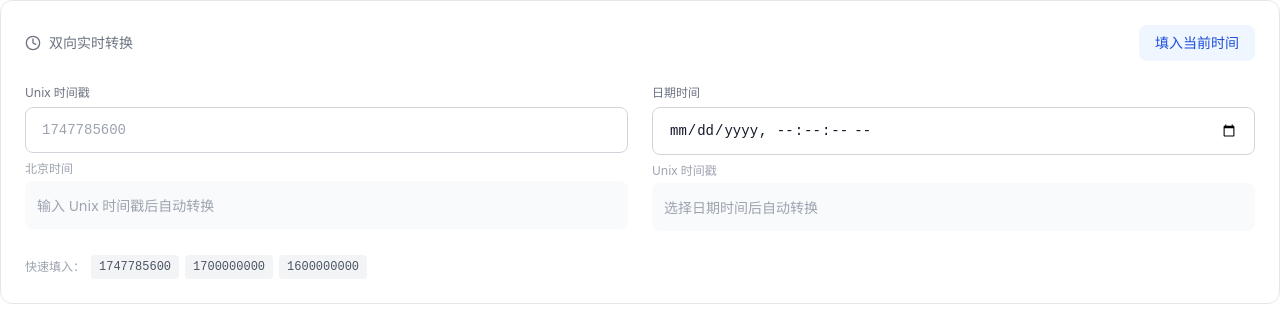
Scenario: UnixTimestampConverter › quick-fill example fills both inputs
The image size is (1280, 323).
What coordinates should you click on to do the following:
click the button "1747785600"
I would click on:
 (135, 267)
Its box is [91,255,179,279].
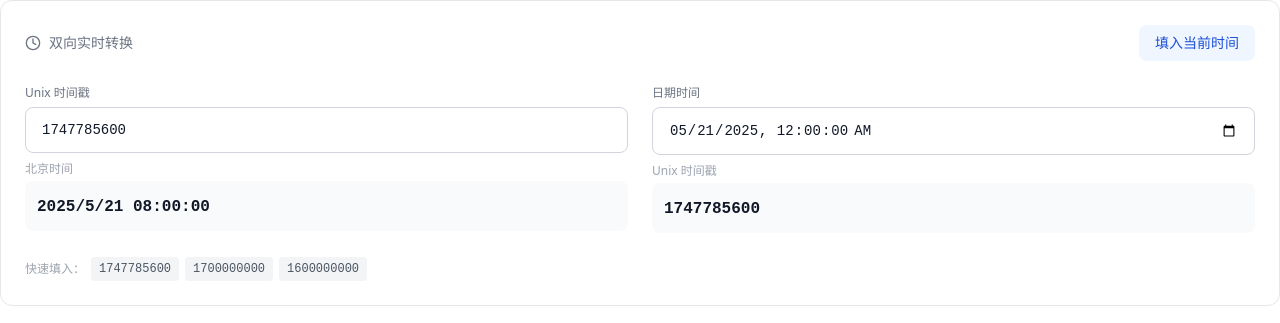
Expected: the text "输入 Unix 时间戳后自动转换" is gone
Expected: the text "选择日期时间后自动转换" is gone
